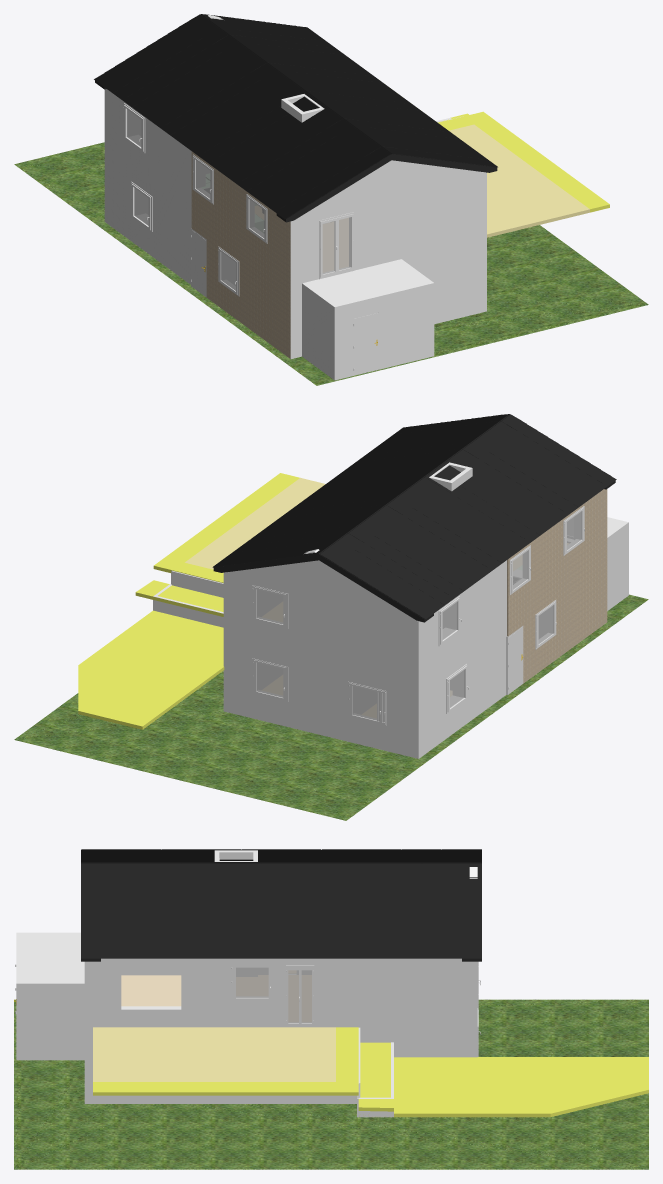
File: Tomtbergavägen 35.obj
The picture shows the model from 3 angles, top to bottom: view 1: azimuth 30°, elevation 25°; view 2: azimuth 150°, elevation 25°; view 3: azimuth 270°, elevation 25°; orthographic projection. The views are drawn at different scales.
Visible parts, largest first — view 1: Tuile_690, ground_1, Tuile_694, wall_43_256, wall_23_136, wall_22_130, room_51_286, wall_2_10, wall_42_251, room_56_292, room_53_289, wall_3_16 (+10 smaller); view 2: Tuile_690, ground_1, wall_20_118, Tuile_694, room_54_290, wall_21_125, wall_23_136, wall_22_130, room_53_289, room_51_286, wall_3_16, room_55_291 (+9 smaller); view 3: ground_1, Tuile_694, wall_29_172, room_54_290, room_51_286, wall_40_238, wall_39_232, Tuile_690, wall_1_4, room_53_289, room_56_292, room_49_282 (+6 smaller).
Boxes of the visible parts, x1=… form: Tuile_690: x1=94, y1=14, x2=390, y2=218; ground_1: x1=14, y1=142, x2=648, y2=385; Tuile_694: x1=201, y1=14, x2=497, y2=167; wall_43_256: x1=398, y1=161, x2=486, y2=324; wall_23_136: x1=191, y1=151, x2=290, y2=358; wall_22_130: x1=104, y1=89, x2=191, y2=284; room_51_286: x1=449, y1=124, x2=589, y2=237; wall_2_10: x1=334, y1=286, x2=434, y2=380; wall_42_251: x1=305, y1=161, x2=389, y2=282; room_56_292: x1=302, y1=259, x2=434, y2=310; room_53_289: x1=438, y1=111, x2=609, y2=212; wall_3_16: x1=302, y1=287, x2=334, y2=379; Tuile_690: x1=320, y1=414, x2=616, y2=619; ground_1: x1=14, y1=594, x2=648, y2=820; wall_20_118: x1=314, y1=552, x2=418, y2=758; Tuile_694: x1=212, y1=414, x2=509, y2=567; room_54_290: x1=78, y1=610, x2=224, y2=729; wall_21_125: x1=223, y1=552, x2=314, y2=733; wall_23_136: x1=507, y1=489, x2=607, y2=683; wall_22_130: x1=418, y1=560, x2=506, y2=758; room_53_289: x1=153, y1=473, x2=299, y2=582; room_51_286: x1=185, y1=478, x2=325, y2=569; wall_3_16: x1=607, y1=526, x2=628, y2=610; room_55_291: x1=135, y1=580, x2=223, y2=616; ground_1: x1=14, y1=999, x2=648, y2=1169; Tuile_694: x1=81, y1=863, x2=481, y2=958; wall_29_172: x1=84, y1=958, x2=358, y2=1103; room_54_290: x1=359, y1=1057, x2=648, y2=1117; room_51_286: x1=93, y1=1027, x2=335, y2=1081; wall_40_238: x1=358, y1=958, x2=425, y2=1057; wall_39_232: x1=425, y1=958, x2=477, y2=1057; Tuile_690: x1=81, y1=849, x2=481, y2=862; wall_1_4: x1=16, y1=987, x2=84, y2=1060; room_53_289: x1=93, y1=1027, x2=358, y2=1095; room_56_292: x1=16, y1=932, x2=84, y2=986; room_49_282: x1=121, y1=970, x2=311, y2=1021.
Bounding box in the file's own units: 1244 × 653 × 1963.
